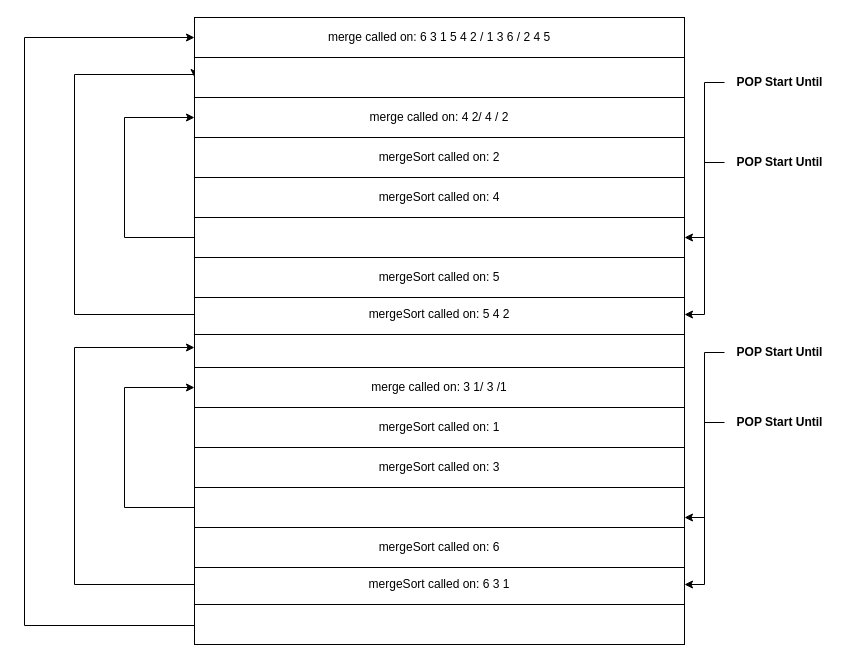
Image size: 852x662. Some labels were removed from this diagram. The shapes that lost their labels are listed below. From the top down, each one's box as (x1, y1, x2, y2) in pixels, then its label:
(194, 56, 684, 98): merge called on: 5 4 2/ 4 2 / 5
(194, 216, 684, 258): mergeSort called on: 4 2
(194, 326, 684, 368): merge called on: 6 3 1/ 6 / 3 1
(194, 486, 684, 528): mergeSort called on: 3 1
(194, 604, 684, 644): mergeSort called on: 6 3 1 5 4 1
